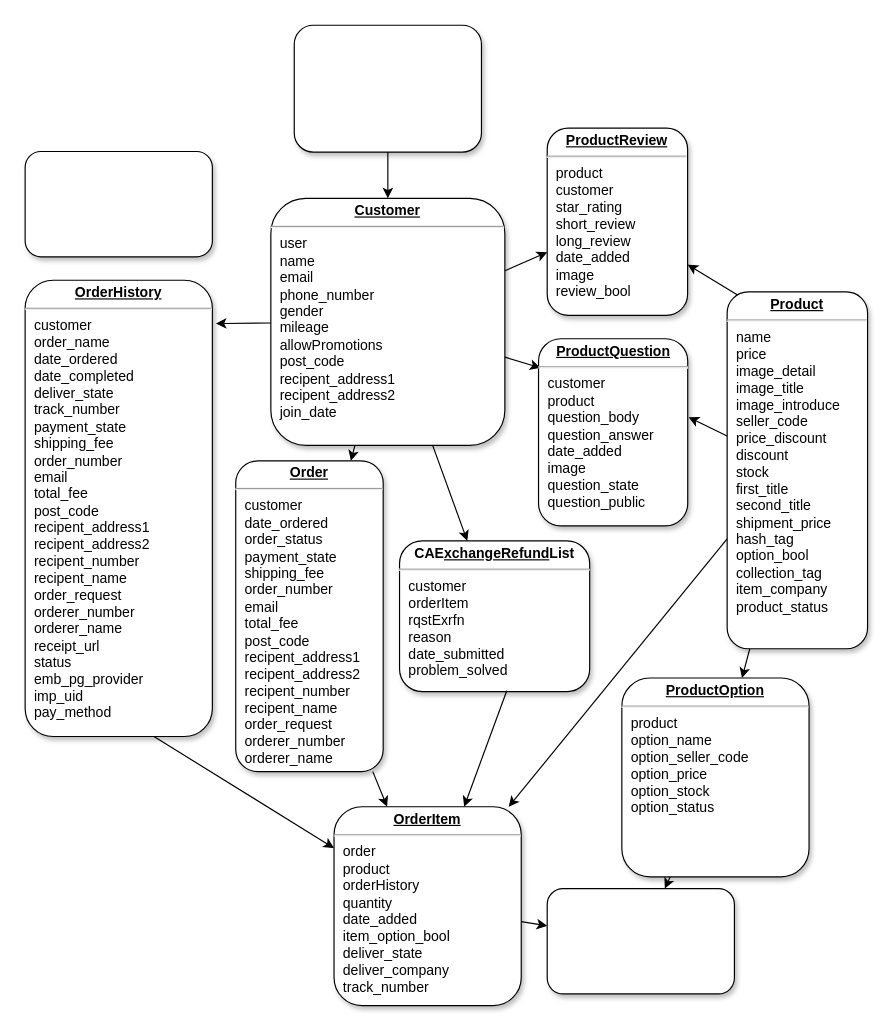
Some shapes in this 895 by 1034 pixel diagram are drawn without their labels. The shapes that lost their labels are listed below. From the top down, each one's centre as x and y in pixels, then its label:
At point 388,89: "User username first_name last_name password email".
At point 119,205: "Carosel picture banner_title banner_description".
At point 641,942: "OrderItemOption orderItem productOption quantity".
